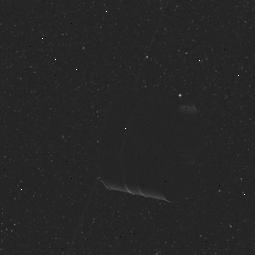double_start: (94, 84, 208, 209)
